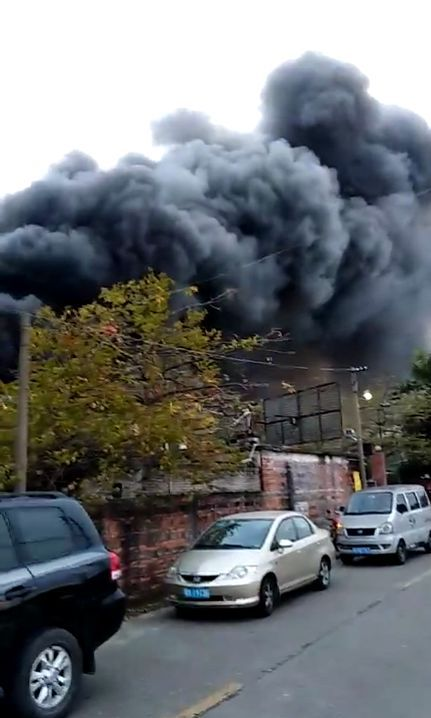smoke: (4, 75, 431, 296)
